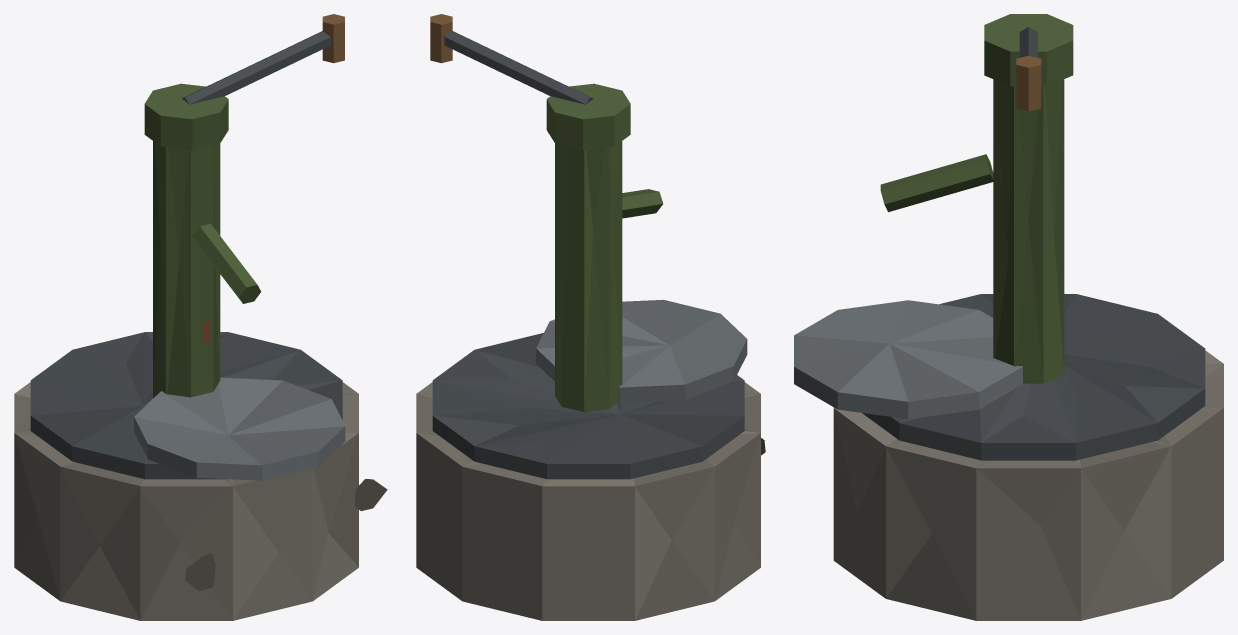
File: well_hand_skvazhina_s_ruchnoy_pompoy_idle.glb
3 views of the same model, side by side, from view 1: azimuth 30°, elevation 25°; view 2: azimuth 150°, elevation 25°; view 3: azimuth 270°, elevation 25° (orthographic). The views are drawn at different scales.
Visible parts, largest first — view 1: well_hand_skvazhina_s_ruchnoy_pompoy_idle; view 2: well_hand_skvazhina_s_ruchnoy_pompoy_idle; view 3: well_hand_skvazhina_s_ruchnoy_pompoy_idle.
Boxes of the visible parts, x1,y1,x2,y2 form: well_hand_skvazhina_s_ruchnoy_pompoy_idle: (14,14,387,620); well_hand_skvazhina_s_ruchnoy_pompoy_idle: (416,14,765,620); well_hand_skvazhina_s_ruchnoy_pompoy_idle: (794,14,1223,620).
Size of the model in its own units: 0.8357 by 1.28 by 0.8935.
1 material, 1 textured.
